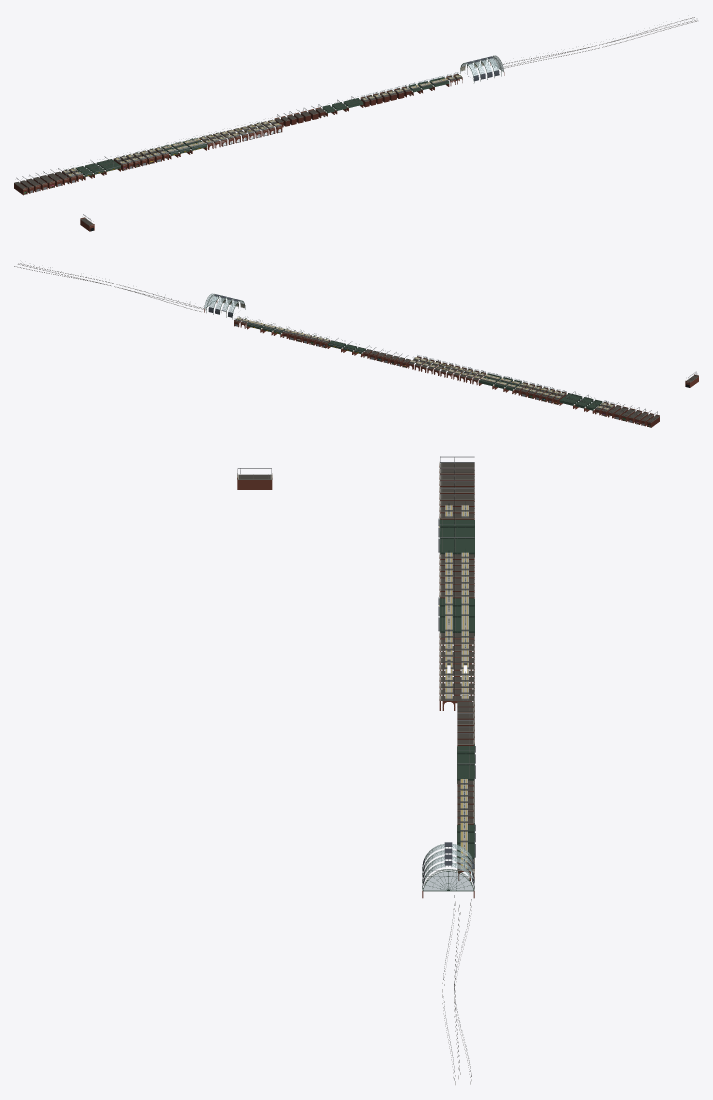
Rendered from viaduct.glb.
The picture shows the model from 3 angles, top to bottom: view 1: azimuth 30°, elevation 25°; view 2: azimuth 150°, elevation 25°; view 3: azimuth 270°, elevation 25°; orthographic projection. The views are drawn at different scales.
Bounding box in the file's own units: 1092 × 33.09 × 177.
